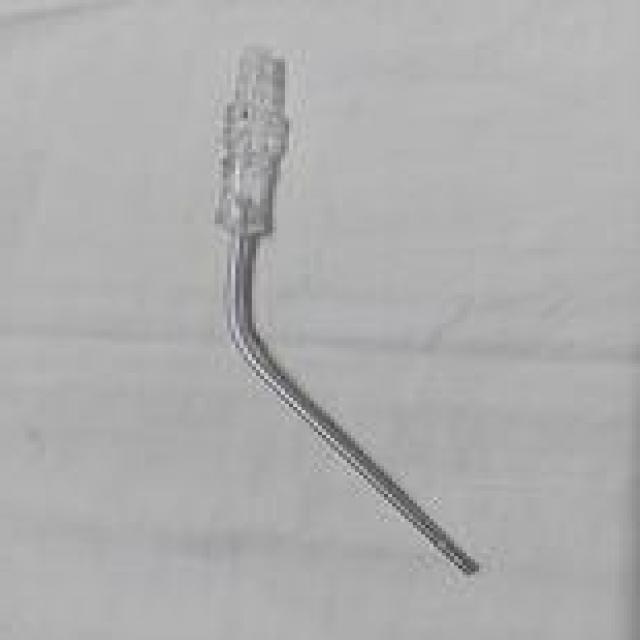Frazier: (214, 43, 483, 581)
